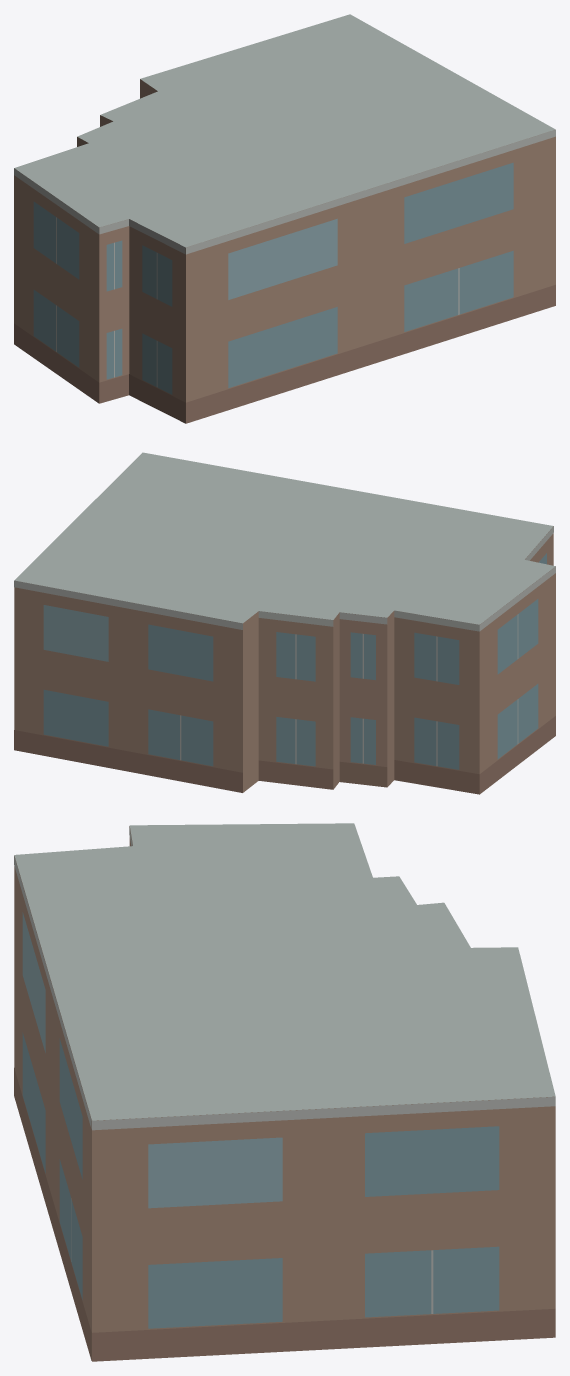
The model's file is survey-upis-32584216.glb.
3 renders of one model, top to bottom at view 1: azimuth 30°, elevation 25°; view 2: azimuth 150°, elevation 25°; view 3: azimuth 270°, elevation 25°, orthographic. The views are drawn at different scales.
Parts seen in each view (by area): view 1: survey-upis-32584216.tmp; view 2: survey-upis-32584216.tmp; view 3: survey-upis-32584216.tmp.
Part boxes in pixels (<box>): survey-upis-32584216.tmp: <box>14,14,555,423</box>; survey-upis-32584216.tmp: <box>14,452,555,794</box>; survey-upis-32584216.tmp: <box>14,823,555,1361</box>.
Size of the model in its own units: 16.16 by 6.1 by 12.44.
